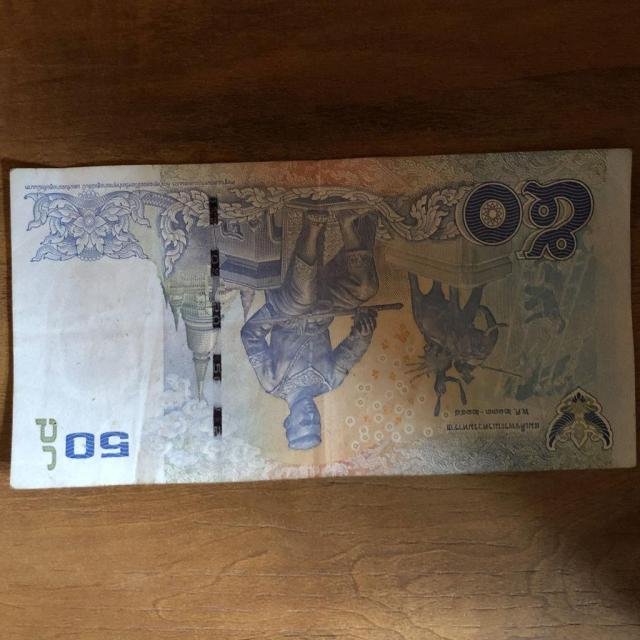THAI50: (7, 149, 637, 492)
